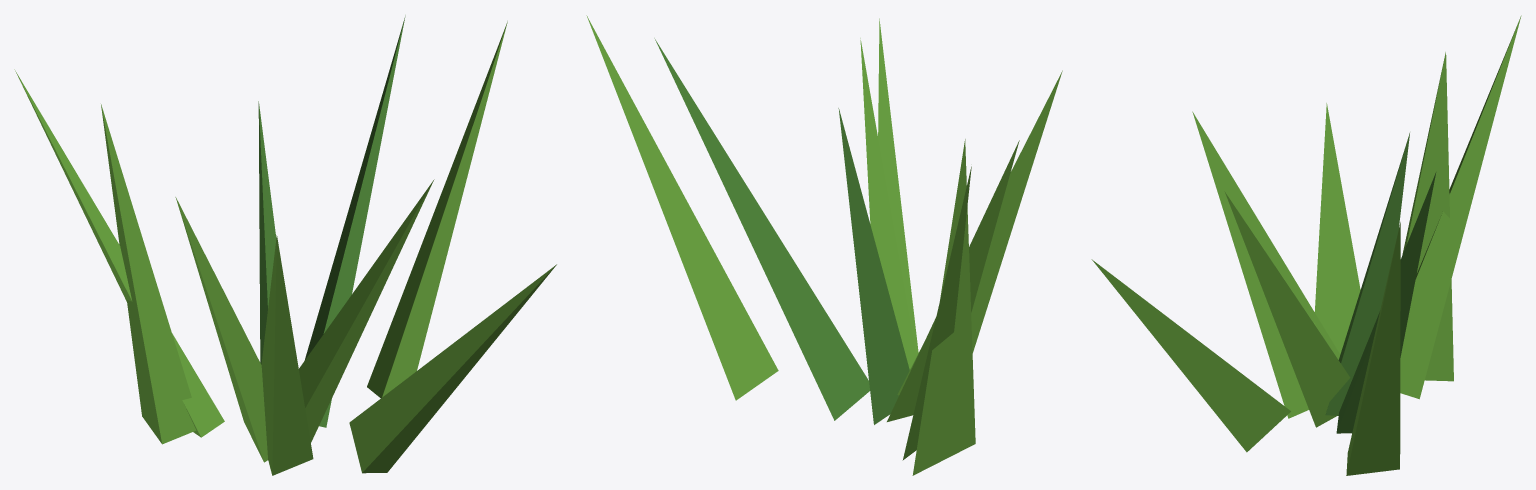
The model's file is HS_LP_Grass_01.fbx.
The picture shows the model from 3 angles, left to right: view 1: azimuth 30°, elevation 25°; view 2: azimuth 150°, elevation 25°; view 3: azimuth 270°, elevation 25°; orthographic projection. The views are drawn at different scales.
Visible parts, largest first — view 1: HS_LP_Grass_01; view 2: HS_LP_Grass_01; view 3: HS_LP_Grass_01.
Boxes of the visible parts, <box> form: HS_LP_Grass_01: <box>14,15,556,475</box>; HS_LP_Grass_01: <box>586,15,1062,475</box>; HS_LP_Grass_01: <box>1091,15,1521,475</box>.
Size of the model in its own units: 28.94 by 22.92 by 26.58.
